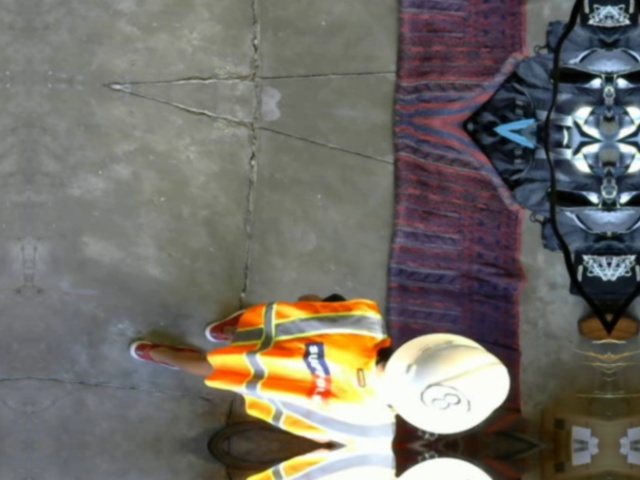eight: (419, 381, 471, 418)
